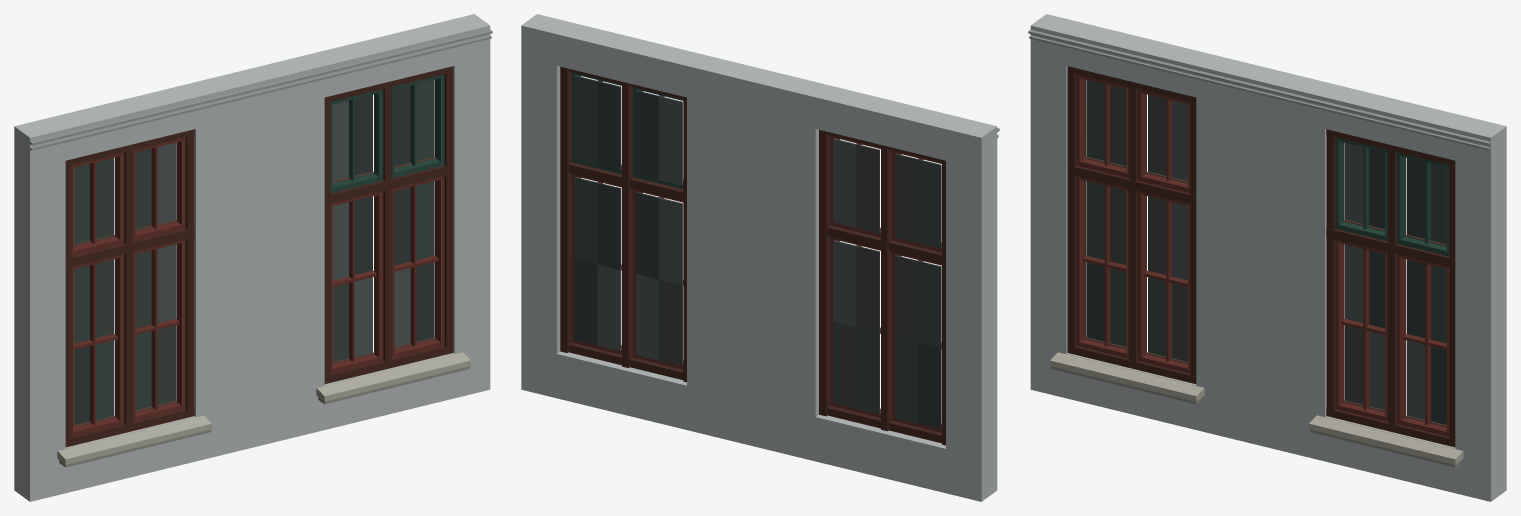
File: huangpu-nanguan-customs-upper-timber-windows-web.glb
3 views of the same model, side by side, from view 1: azimuth 30°, elevation 25°; view 2: azimuth 150°, elevation 25°; view 3: azimuth 330°, elevation 25° (orthographic).
Visible parts, largest first — view 1: 江海南关办公楼临街二层红棕色木窗; view 2: 江海南关办公楼临街二层红棕色木窗; view 3: 江海南关办公楼临街二层红棕色木窗.
Part boxes in pixels (left/top/right/bottom): 江海南关办公楼临街二层红棕色木窗: left=14, top=14, right=492, bottom=501; 江海南关办公楼临街二层红棕色木窗: left=521, top=14, right=999, bottom=501; 江海南关办公楼临街二层红棕色木窗: left=1028, top=14, right=1506, bottom=501.
Bounding box in the file's own units: 3.36 × 2.54 × 0.303.
